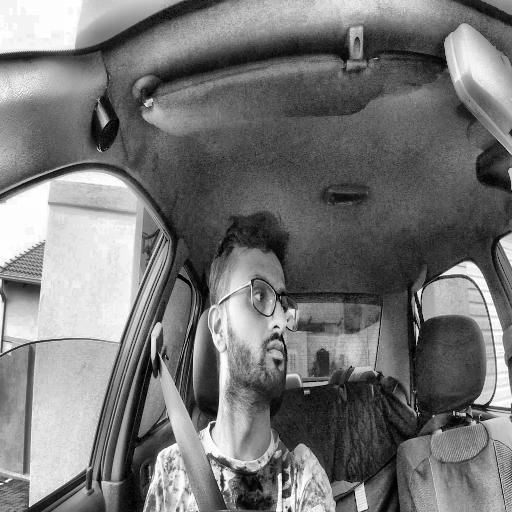awake: (208, 211, 300, 404)
